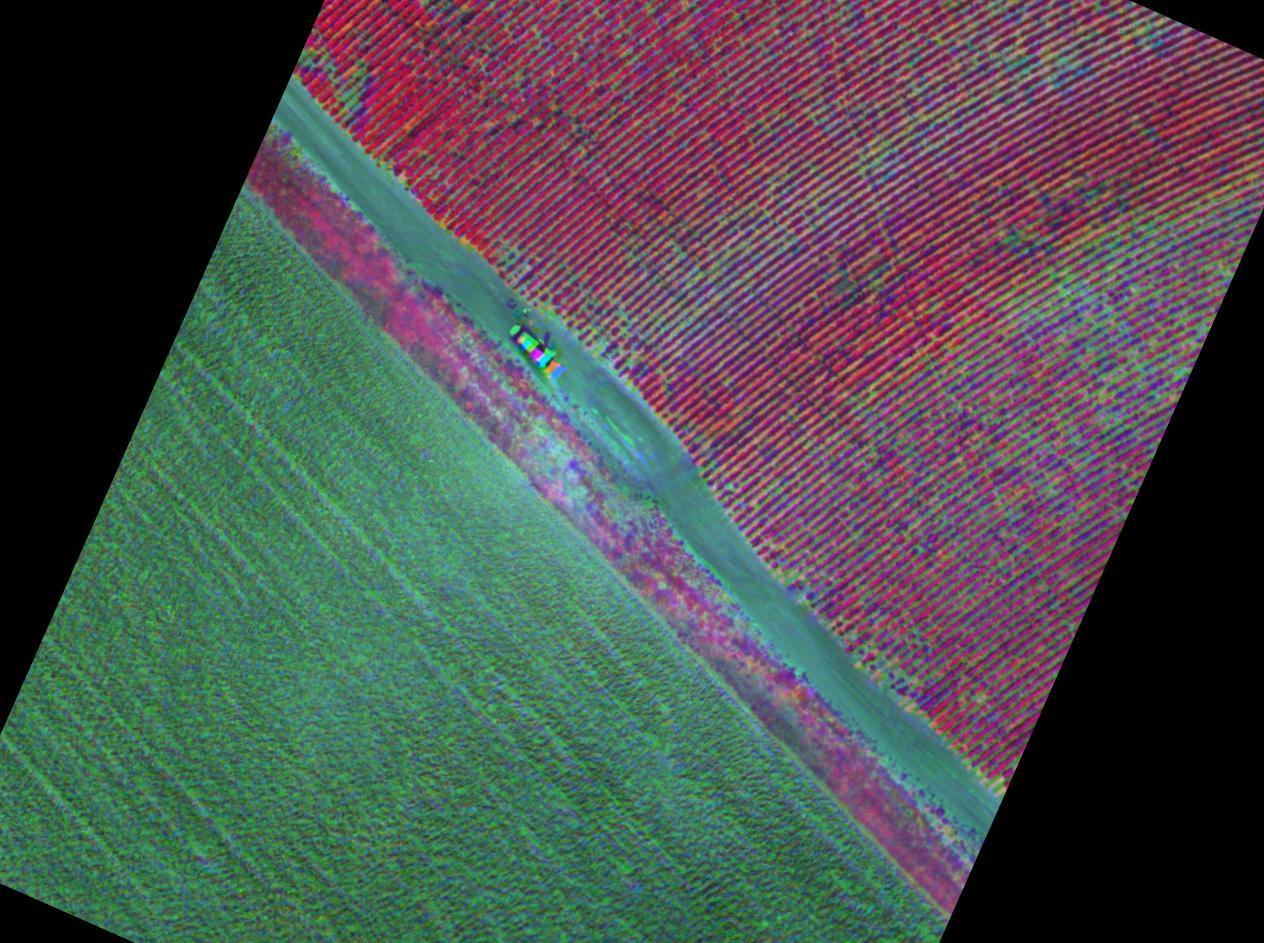dc: (897, 672, 904, 677), (791, 575, 796, 580), (597, 344, 603, 348), (1177, 370, 1182, 374), (1061, 290, 1065, 294), (617, 311, 621, 315), (765, 213, 769, 216), (698, 274, 702, 277), (883, 143, 886, 146), (629, 363, 632, 366), (872, 393, 875, 395)
